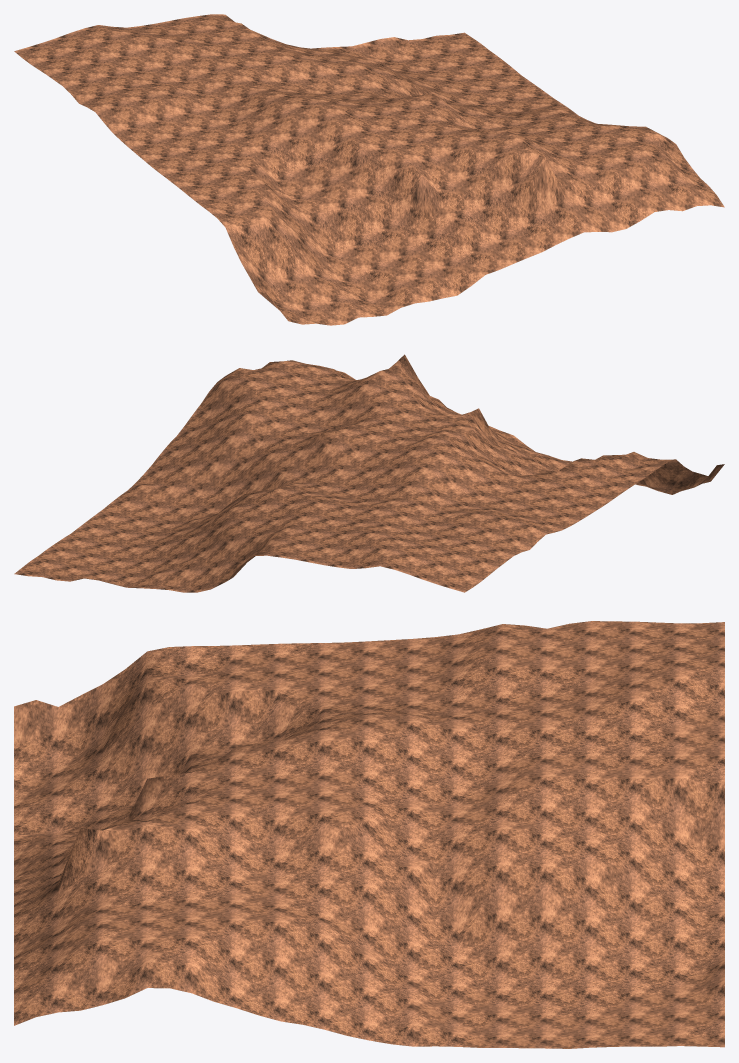
File: terrain_05_13.dae
3 views of the same model, one above another, from view 1: azimuth 30°, elevation 25°; view 2: azimuth 150°, elevation 25°; view 3: azimuth 270°, elevation 25° (orthographic). The views are drawn at different scales.
Parts seen in each view (by area): view 1: terrain_05_13-node; view 2: terrain_05_13-node; view 3: terrain_05_13-node.
Boxes of the visible parts, x1,y1,x2,y2 form: terrain_05_13-node: (14,14,724,325); terrain_05_13-node: (14,354,724,592); terrain_05_13-node: (14,621,724,1048).
Size of the model in its own units: 128 by 128 by 29.39.
1 material, 1 textured.
